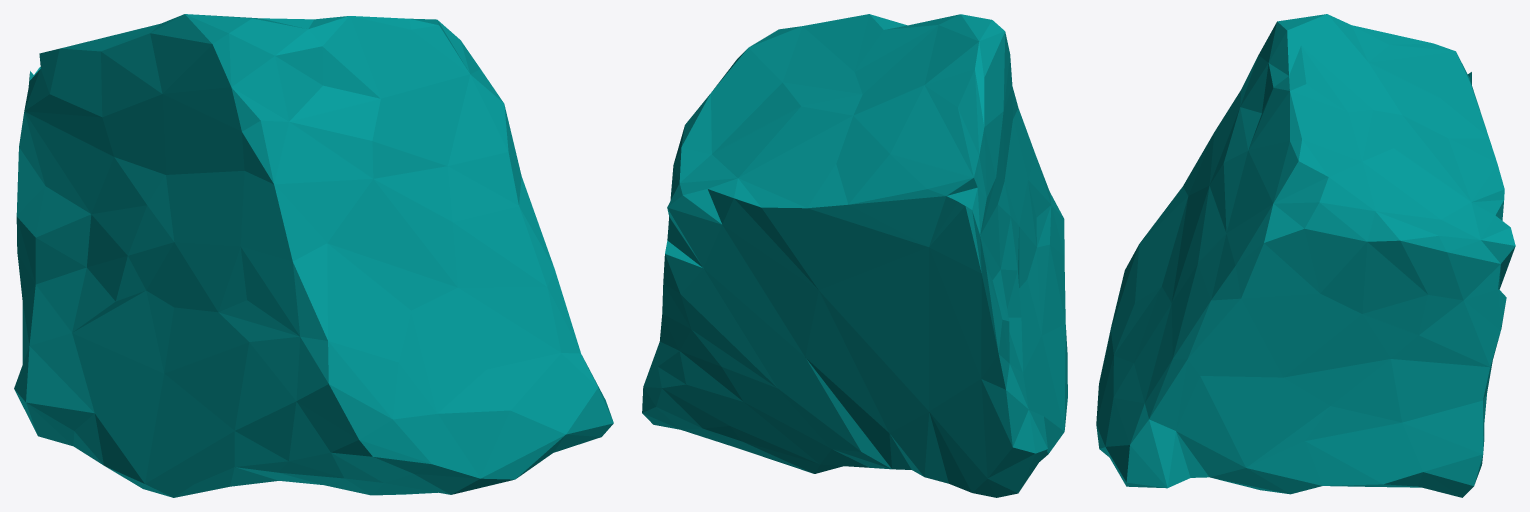
The model's file is blue_rock.dae.
3 views of the same model, side by side, from view 1: azimuth 30°, elevation 25°; view 2: azimuth 150°, elevation 25°; view 3: azimuth 270°, elevation 25° (orthographic). The views are drawn at different scales.
Parts seen in each view (by area): view 1: skp2F4; view 2: skp2F4; view 3: skp2F4.
Boxes of the visible parts, x1,y1,x2,y2 form: skp2F4: [14, 14, 613, 497]; skp2F4: [642, 14, 1067, 497]; skp2F4: [1096, 14, 1515, 497].
Bounding box in the file's own units: 28.5 × 27.36 × 27.87.
